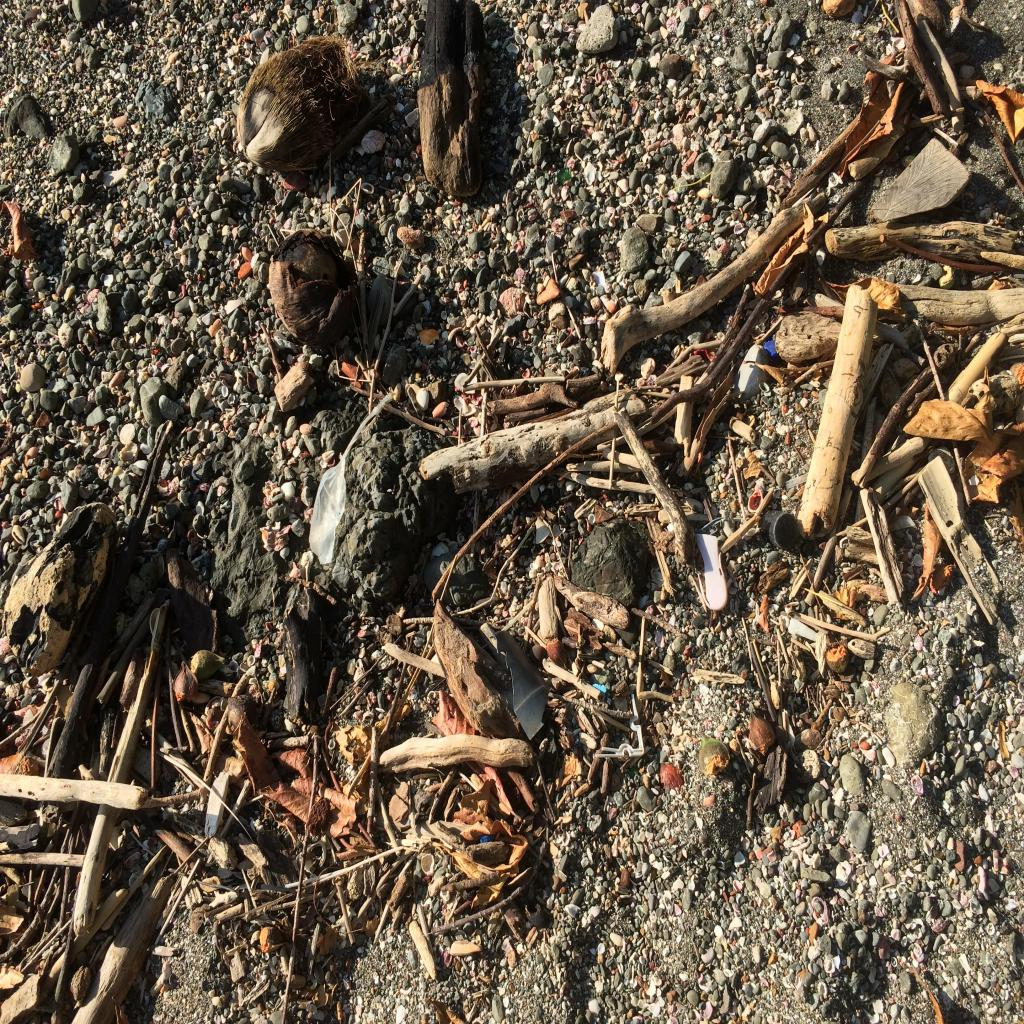Other plastic wrapper: (490, 630, 552, 740), (594, 694, 644, 757), (692, 534, 728, 612), (788, 618, 817, 642), (592, 682, 606, 694)
Plastic film: (309, 392, 393, 564)
Unlabeled litter: (761, 510, 798, 549)
